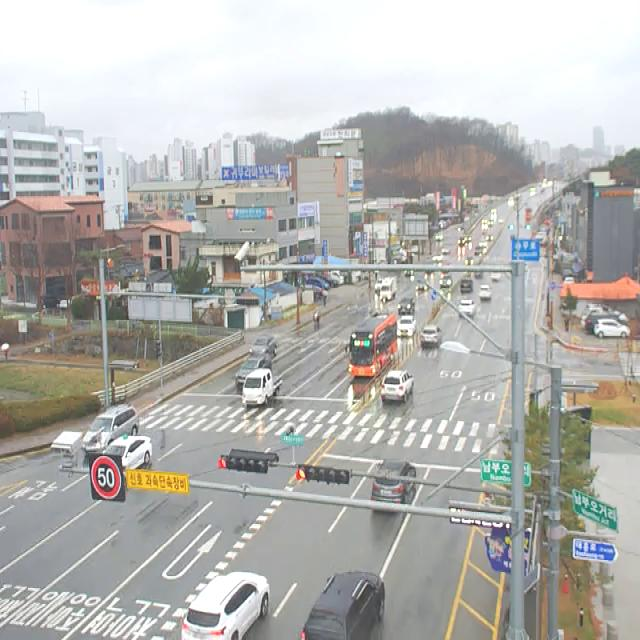Bus: (345, 313, 398, 376), (481, 219, 488, 230)
Car: (181, 571, 269, 640), (300, 570, 384, 640), (83, 404, 139, 454), (371, 458, 416, 512), (102, 436, 152, 476), (581, 305, 629, 328), (236, 358, 272, 388), (381, 371, 414, 403), (585, 310, 627, 332), (594, 319, 630, 339), (250, 336, 276, 358), (421, 326, 442, 348), (398, 316, 417, 337), (398, 298, 415, 316), (459, 300, 475, 319), (460, 278, 474, 294), (479, 285, 492, 301), (440, 275, 453, 288), (416, 279, 429, 290), (479, 243, 488, 254), (375, 279, 383, 291), (441, 245, 451, 254), (465, 256, 474, 266), (491, 272, 501, 281), (432, 254, 443, 262), (474, 246, 482, 256), (404, 269, 414, 277), (474, 271, 484, 278), (486, 234, 494, 242), (458, 237, 465, 246), (436, 234, 444, 240), (488, 219, 494, 227), (465, 236, 471, 242)
Truck: (243, 370, 282, 406), (380, 276, 397, 301)
